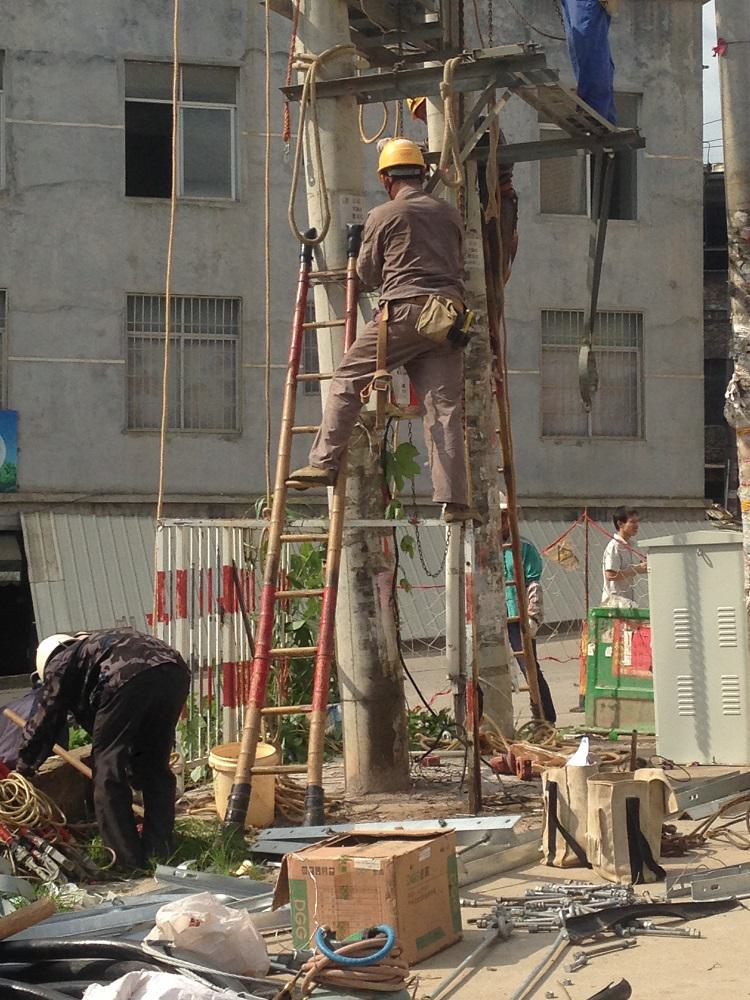无人扶梯: (214, 136, 484, 842)
